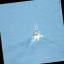fishing boat: (28, 18, 42, 40)
